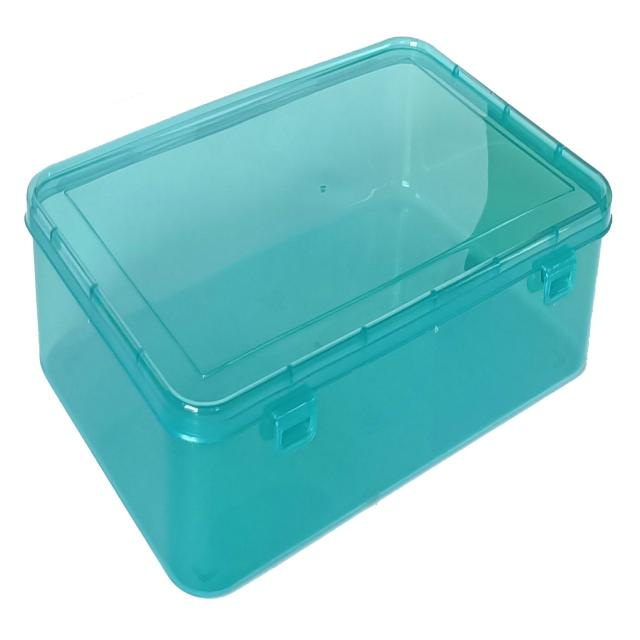plastic_box: (12, 22, 629, 629)
